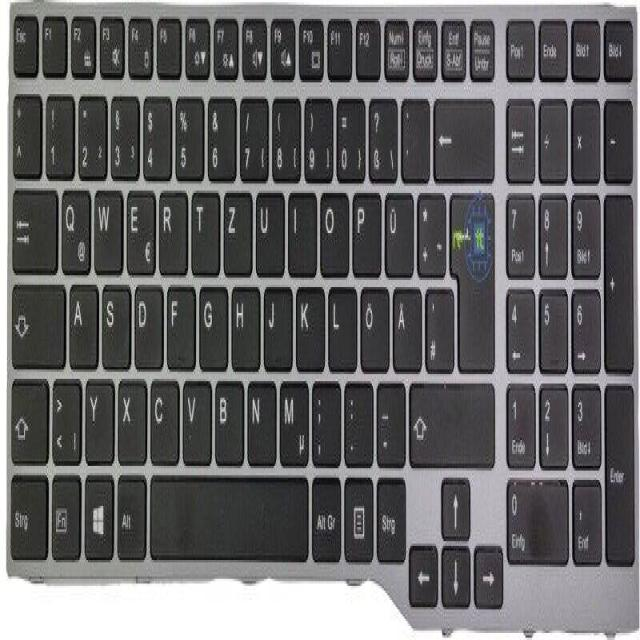0: (334, 92, 364, 176)
1: (43, 90, 73, 177)
2: (76, 90, 106, 174)
3: (109, 90, 138, 174)
4: (141, 92, 170, 176)
5: (173, 90, 202, 174)
6: (206, 92, 235, 176)
7: (239, 92, 268, 179)
8: (270, 92, 299, 179)
9: (302, 92, 332, 176)
a: (66, 275, 96, 365)
accent: (399, 92, 429, 179)
ae: (390, 280, 420, 367)
alt-left: (114, 471, 145, 558)
altgr-right: (310, 471, 339, 560)
b: (212, 374, 242, 461)
c: (148, 372, 178, 461)
caret: (10, 90, 40, 174)
comma: (310, 374, 339, 464)
d: (132, 278, 161, 367)
del: (431, 90, 493, 177)
e: (124, 184, 154, 271)
enter: (447, 184, 494, 370)
f: (165, 280, 194, 365)
g: (197, 278, 226, 365)
h: (229, 280, 258, 367)
hash: (423, 280, 453, 367)
i: (287, 186, 316, 273)
j: (261, 280, 290, 367)
k: (294, 278, 323, 367)
keyboard: (4, 0, 639, 631)
l: (327, 280, 356, 367)
less: (50, 372, 80, 461)
m: (277, 372, 307, 464)
minus: (374, 374, 404, 461)
n: (245, 374, 275, 464)
o: (318, 183, 347, 273)
oe: (359, 280, 388, 367)
p: (350, 183, 380, 273)
plus: (415, 183, 445, 273)
point: (342, 374, 372, 464)
q: (58, 181, 89, 271)
r: (157, 183, 186, 273)
s: (99, 278, 129, 365)
shift-left: (8, 372, 46, 461)
shift-lock: (9, 275, 63, 365)
shift-right: (407, 372, 494, 461)
space: (148, 469, 306, 556)
ss: (366, 92, 396, 179)
strg-left: (7, 468, 46, 558)
strg-right: (374, 473, 405, 560)
t: (189, 184, 218, 271)
tab: (11, 181, 56, 268)
u: (254, 183, 283, 273)
ue: (382, 184, 412, 276)
v: (180, 372, 210, 461)
w: (92, 181, 121, 271)
x: (115, 372, 146, 461)
y: (83, 372, 113, 461)
z: (222, 184, 251, 271)
